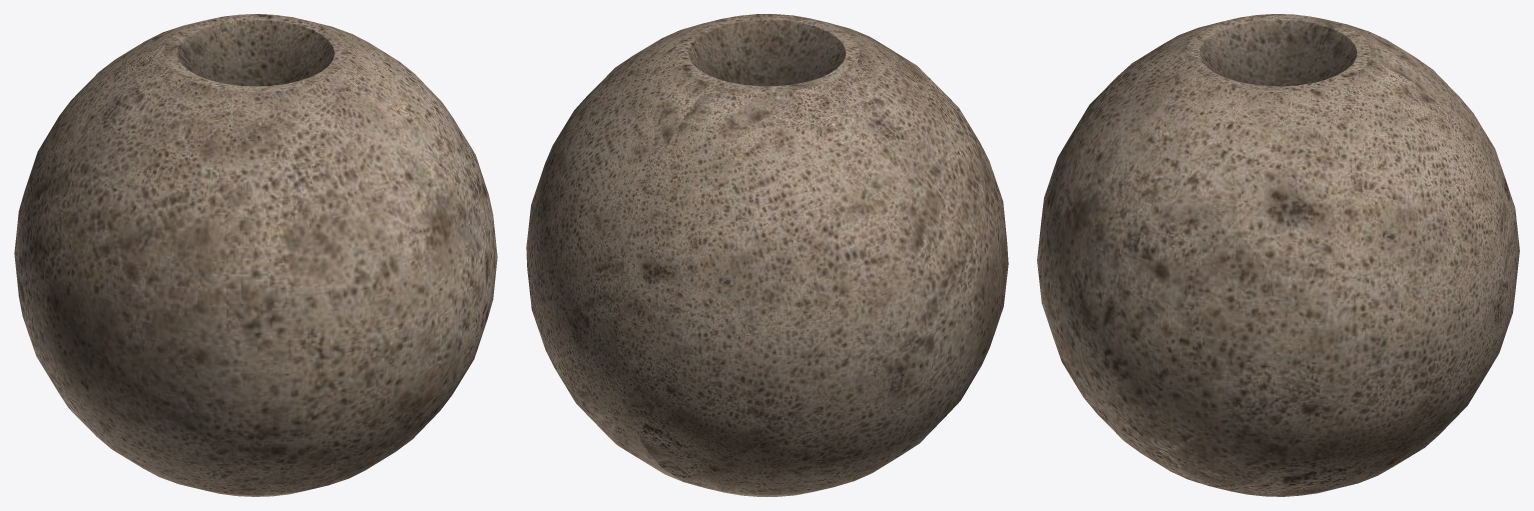
Rendered from street_el_3.glb.
3 renders of one model, left to right at view 1: azimuth 30°, elevation 25°; view 2: azimuth 150°, elevation 25°; view 3: azimuth 270°, elevation 25°, orthographic.
Visible parts, largest first — view 1: street_el_3; view 2: street_el_3; view 3: street_el_3.
Boxes of the visible parts, x1,y1,x2,y2 form: street_el_3: (14,14,497,496); street_el_3: (526,14,1008,496); street_el_3: (1037,14,1519,496).
Size of the model in its own units: 0.775 by 0.7169 by 0.7751.
Materials: 1 (1 with a texture image).
